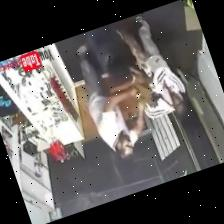person: (76, 44, 143, 159), (120, 16, 186, 117), (86, 23, 141, 86)
